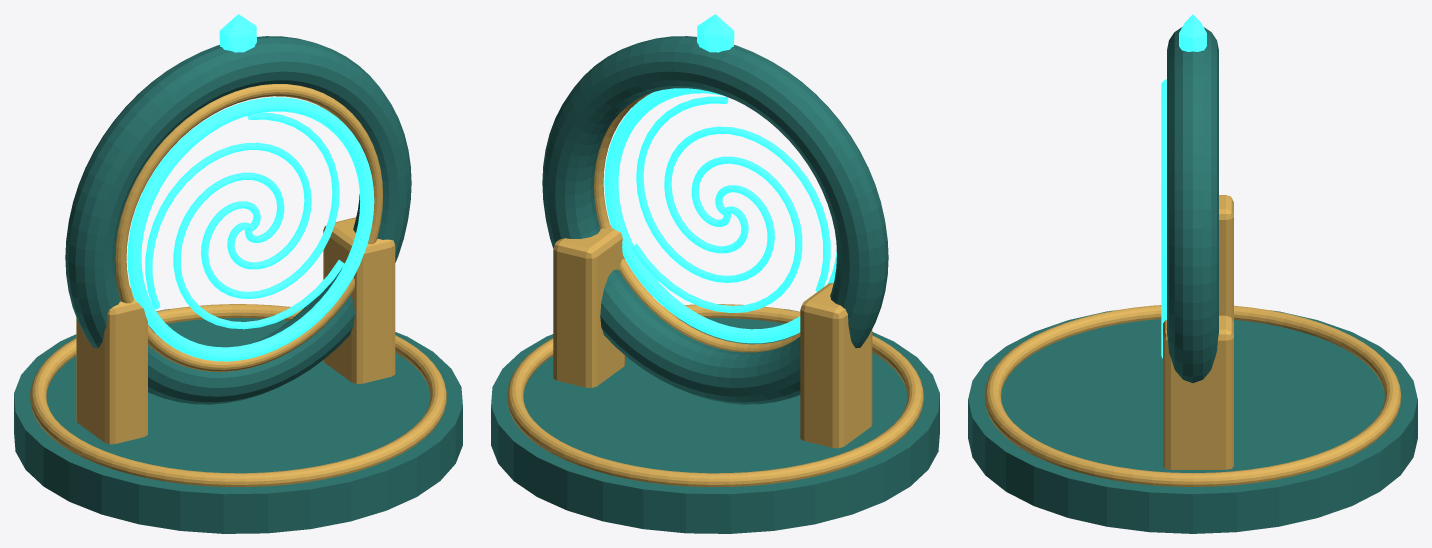
The model's file is exit-portal.glb.
3 renders of one model, left to right at view 1: azimuth 30°, elevation 25°; view 2: azimuth 150°, elevation 25°; view 3: azimuth 270°, elevation 25°, orthographic.
Visible parts, largest first — view 1: portal_plinth, portal_main_frame, portal_energy, portal_base_trim, portal_support, portal_inner_trim, portal_support.001, vortex_spiral.001, vortex_spiral.002, vortex_spiral, portal_crown; view 2: portal_plinth, portal_main_frame, portal_base_trim, portal_support, portal_support.001, portal_energy, vortex_spiral.001, vortex_spiral.002, vortex_spiral, portal_inner_trim, portal_crown; view 3: portal_plinth, portal_main_frame, portal_base_trim, portal_support.001, portal_support, portal_energy, portal_crown.
Boxes of the visible parts, x1,y1,x2,y2 form: portal_plinth: (14, 309, 462, 533); portal_main_frame: (65, 36, 411, 404); portal_energy: (127, 97, 374, 361); portal_base_trim: (30, 304, 446, 487); portal_support: (76, 287, 147, 444); portal_inner_trim: (114, 84, 383, 371); portal_support.001: (323, 217, 395, 383); vortex_spiral.001: (145, 142, 311, 308); vortex_spiral.002: (173, 172, 344, 329); vortex_spiral: (201, 112, 339, 298); portal_crown: (219, 14, 256, 52); portal_plinth: (491, 309, 939, 533); portal_main_frame: (542, 36, 888, 404); portal_base_trim: (507, 304, 923, 487); portal_support: (800, 283, 872, 448); portal_support.001: (553, 226, 624, 387); portal_energy: (604, 88, 836, 343); vortex_spiral.001: (664, 126, 830, 291); vortex_spiral.002: (631, 156, 802, 312); vortex_spiral: (636, 96, 774, 282); portal_inner_trim: (594, 92, 800, 352); portal_crown: (697, 14, 734, 52); portal_plinth: (968, 310, 1417, 533); portal_main_frame: (1167, 27, 1218, 382); portal_base_trim: (984, 305, 1401, 486); portal_support.001: (1163, 315, 1233, 469); portal_support: (1219, 195, 1233, 322); portal_energy: (1161, 79, 1166, 358); portal_crown: (1179, 14, 1206, 51).
Size of the model in its own units: 1.64 by 1.71 by 1.64.
